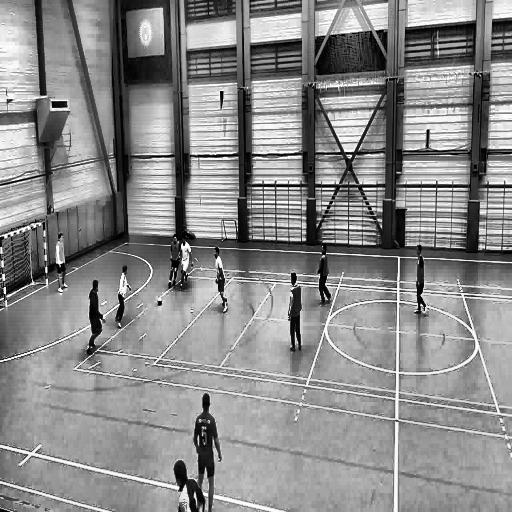ball: (156, 295, 165, 309)
player: (193, 392, 221, 510), (84, 278, 106, 358), (173, 460, 205, 512), (287, 272, 305, 356), (114, 264, 132, 331), (412, 244, 428, 318), (213, 246, 230, 314), (316, 240, 332, 308), (54, 231, 70, 294), (181, 232, 192, 292), (168, 231, 179, 290)
